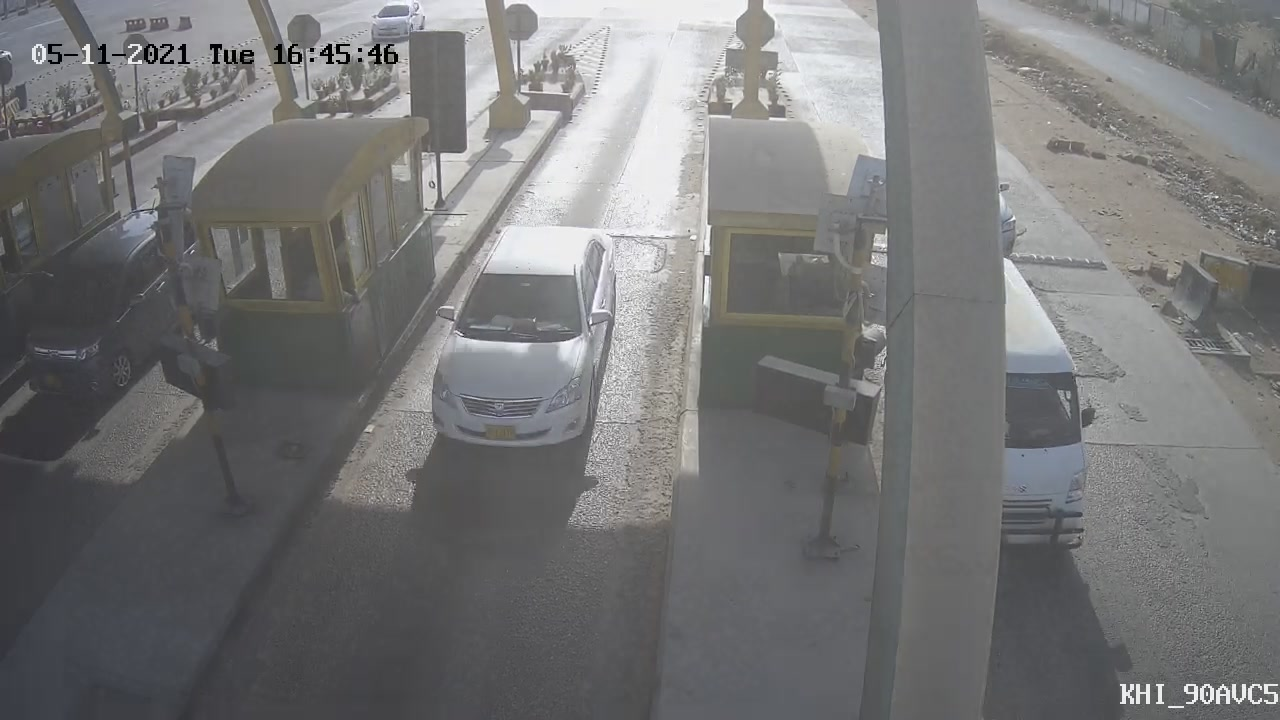F1: (409, 204, 637, 473)
